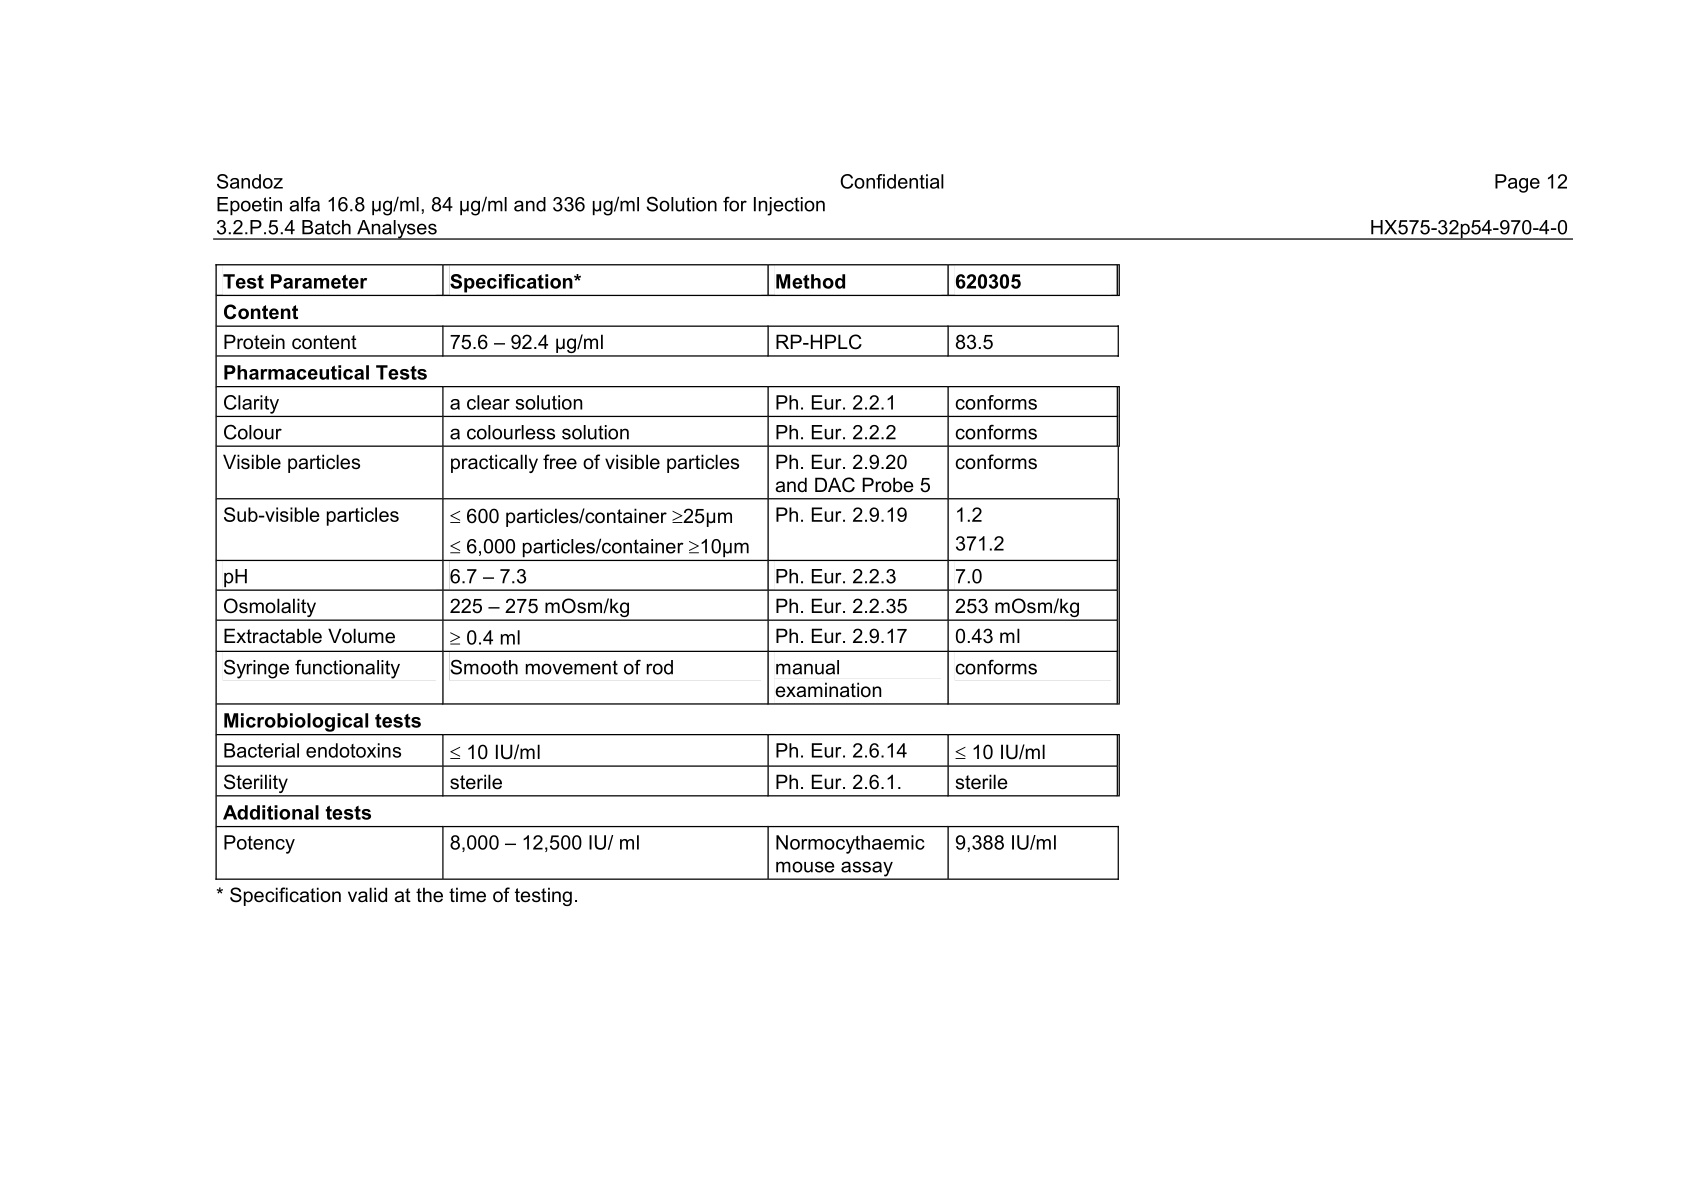merged_cells: (215, 264, 1120, 880)
